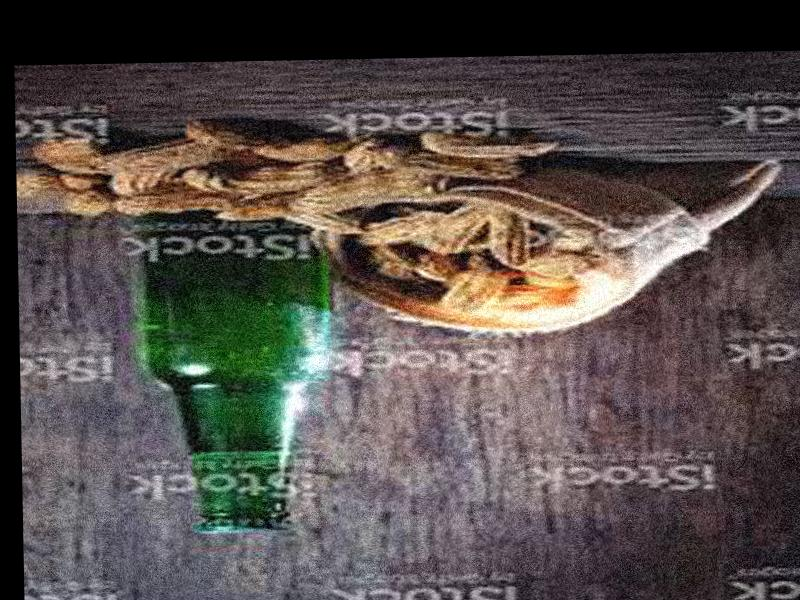Beer: (138, 185, 341, 538)
